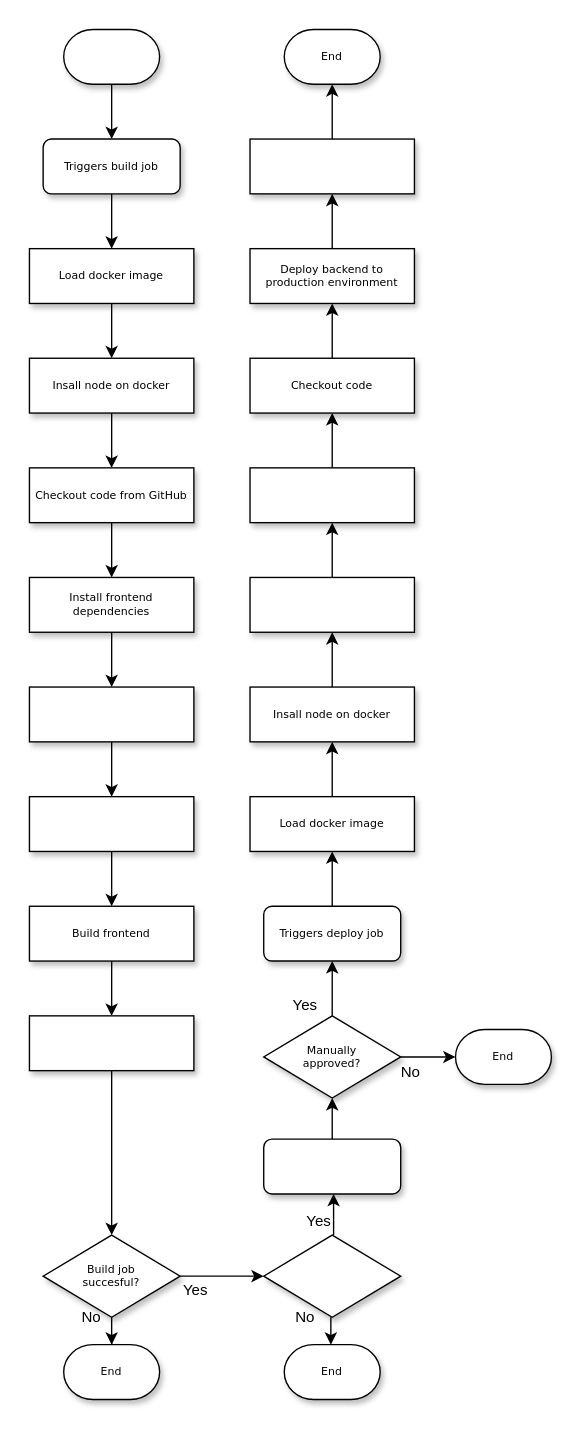
Image size: 584x1433. Some labels were removed from this diagram. The shapes that lost their labels are listed below. From the top down, each one's centre as x and y in pixels, then its label:
At point 112,58: "Commit is pushed to GitHub".
At point 333,167: "Deploy frontend to production environment".
At point 333,496: "Setup AWS CLI".
At point 333,606: "Setup EB".
At point 112,715: "Install API dependencies".
At point 112,825: "Lint frontend".
At point 112,1044: "Build API".
At point 333,1168: "Triggers hold job".
At point 333,1277: "Commit on master branch?".
